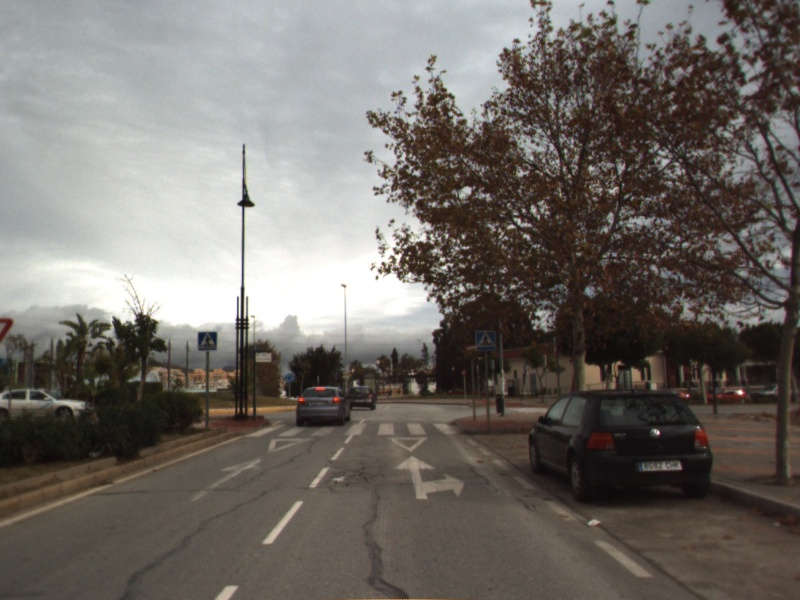STRAIGHT: (186, 454, 263, 504)
STRAIGHT_RIGHT: (391, 453, 467, 501)
